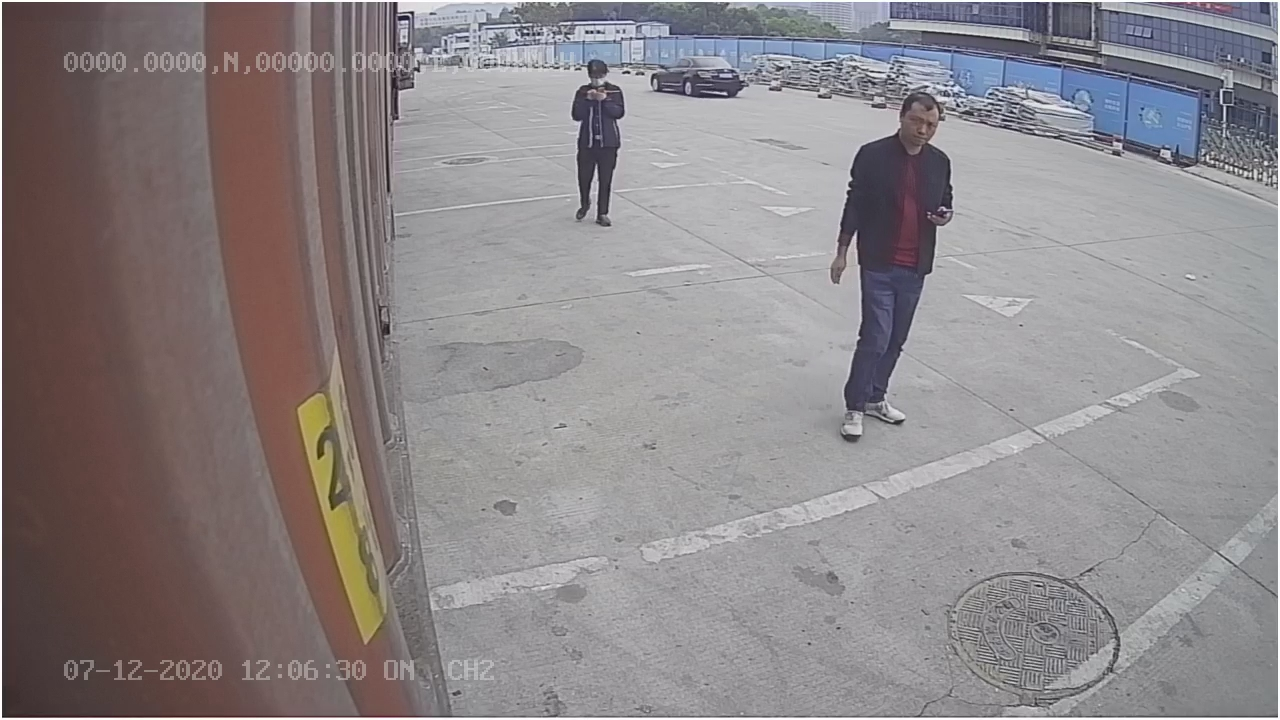person: (818, 81, 954, 441)
